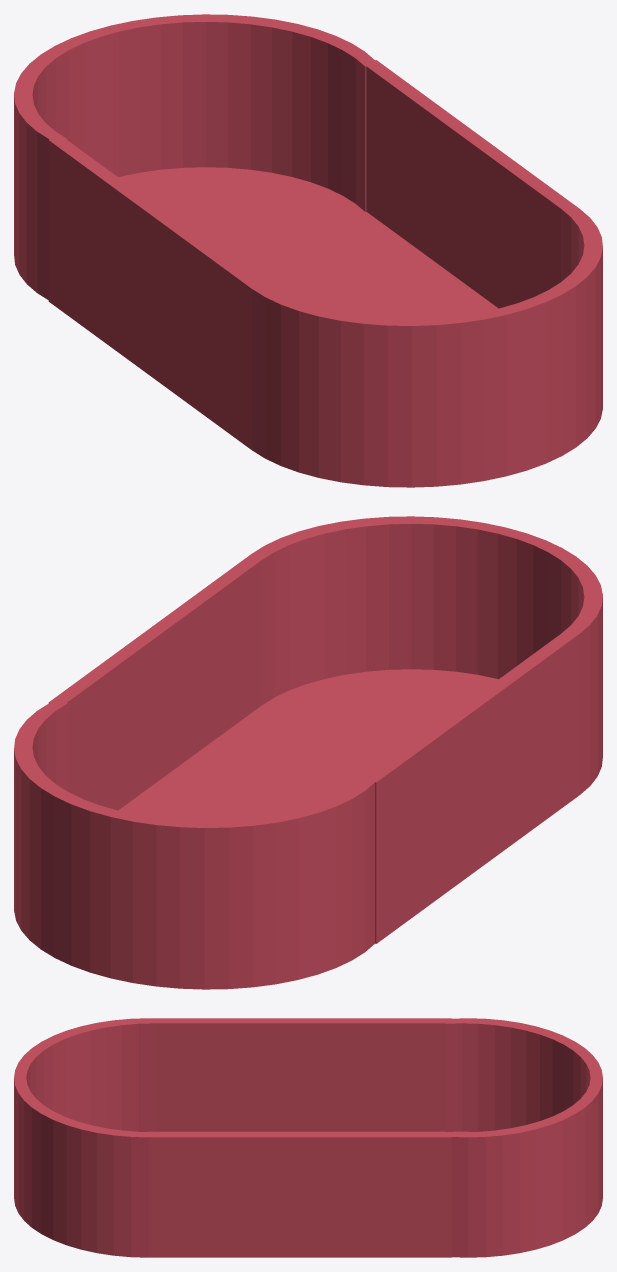
The model's file is ford-e450-switch-cover-single.glb.
3 views of the same model, one above another, from view 1: azimuth 30°, elevation 25°; view 2: azimuth 150°, elevation 25°; view 3: azimuth 270°, elevation 25° (orthographic). The views are drawn at different scales.
Visible parts, largest first — view 1: Mesh_Mesh_head_geo.001_lambert2SG.001; view 2: Mesh_Mesh_head_geo.001_lambert2SG.001; view 3: Mesh_Mesh_head_geo.001_lambert2SG.001.
Boxes of the visible parts, x1,y1,x2,y2 form: Mesh_Mesh_head_geo.001_lambert2SG.001: (14,14,602,487); Mesh_Mesh_head_geo.001_lambert2SG.001: (14,516,602,989); Mesh_Mesh_head_geo.001_lambert2SG.001: (14,1018,602,1257).
Bounding box in the file's own units: 0.017 × 0.008 × 0.0355.
